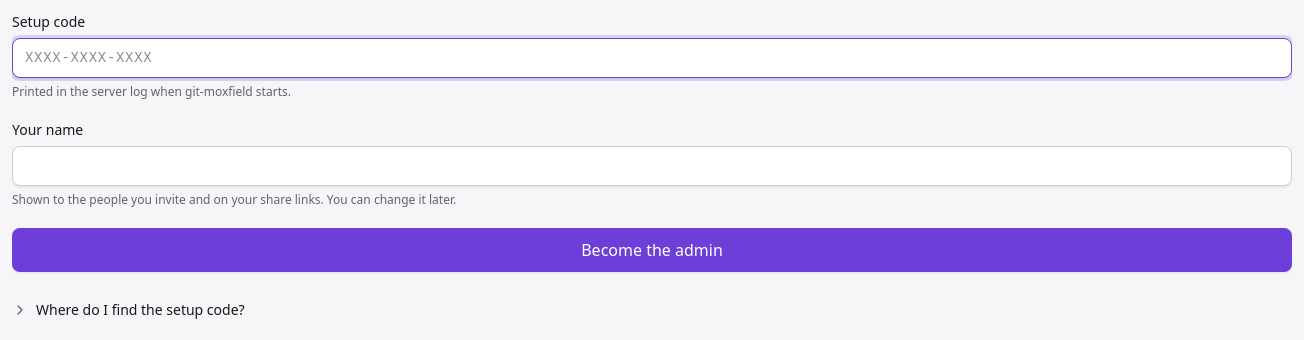
Test case: ClaimForm › sends the setup code and name, and keeps both with the error on the code
Type "AAAA-BBBB-CCCC" into the field labelled "Setup code". click: point(652, 58)
box: [12,38,1292,78]
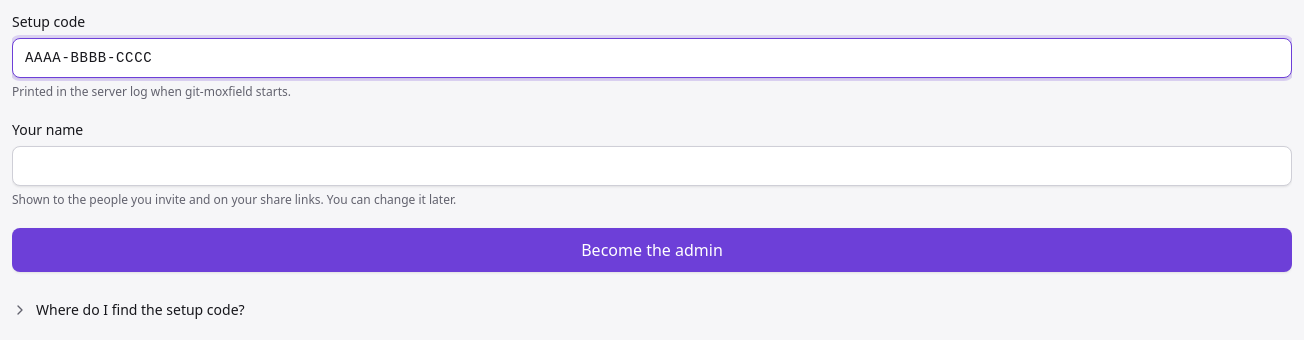
Type "Jaakko" into the field labelled "Your name". click: point(652, 166)
box: [12,146,1292,186]
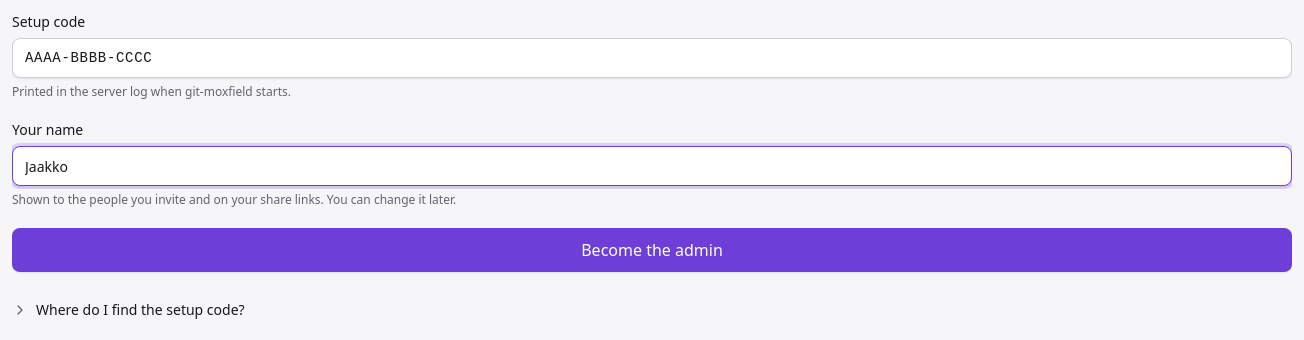
Click the button "Become the admin". click: point(652, 250)
box: [12,228,1292,272]
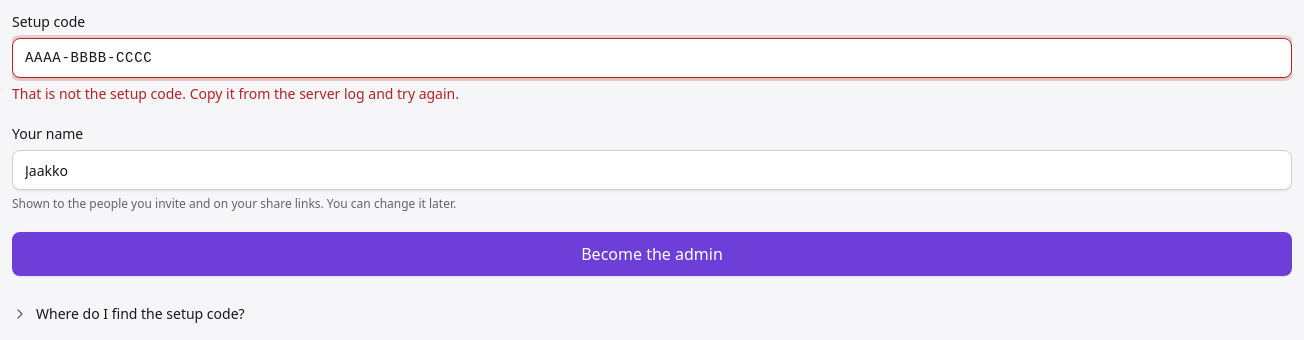
Check: the field labelled "Setup code" holds "AAAA-BBBB-CCCC", box [12,38,1292,78]
Check: the field labelled "Your name" holds "Jaakko", box [12,150,1292,190]
Check: the message shows "That is not the setup code.", box [12,84,459,103]
